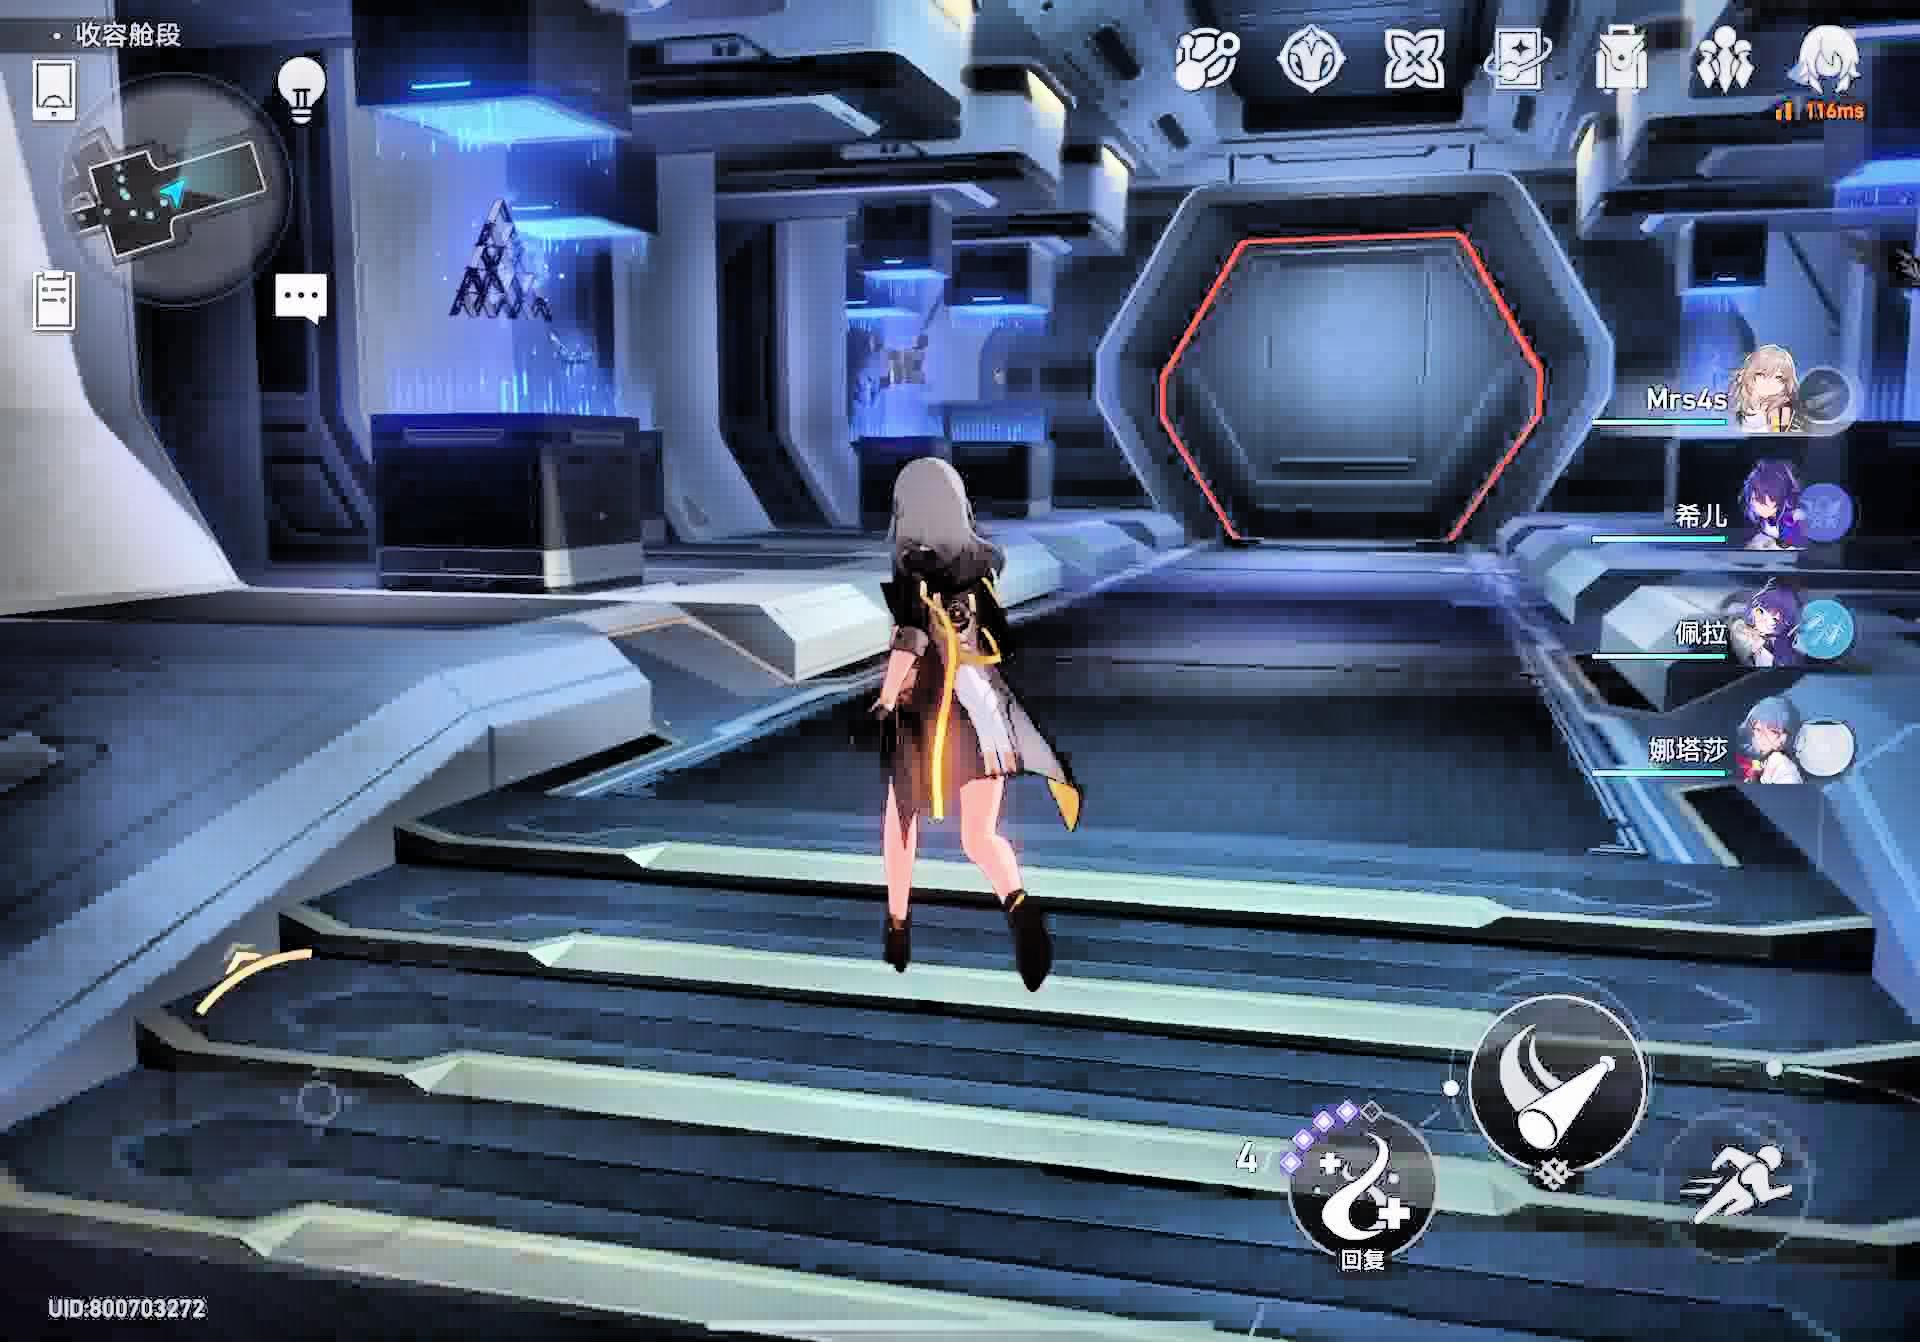Self: (868, 449, 1085, 999)
